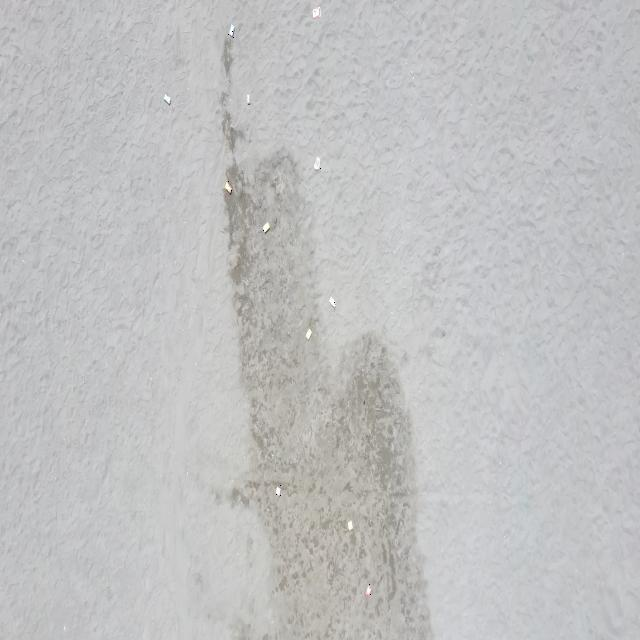Garbage: (304, 327, 312, 340), (261, 221, 270, 232), (313, 156, 320, 169), (312, 7, 320, 17), (364, 584, 371, 595), (224, 181, 231, 192), (328, 296, 335, 307), (227, 24, 233, 36), (164, 94, 169, 103), (347, 520, 352, 529), (276, 484, 280, 495), (246, 94, 249, 103)
